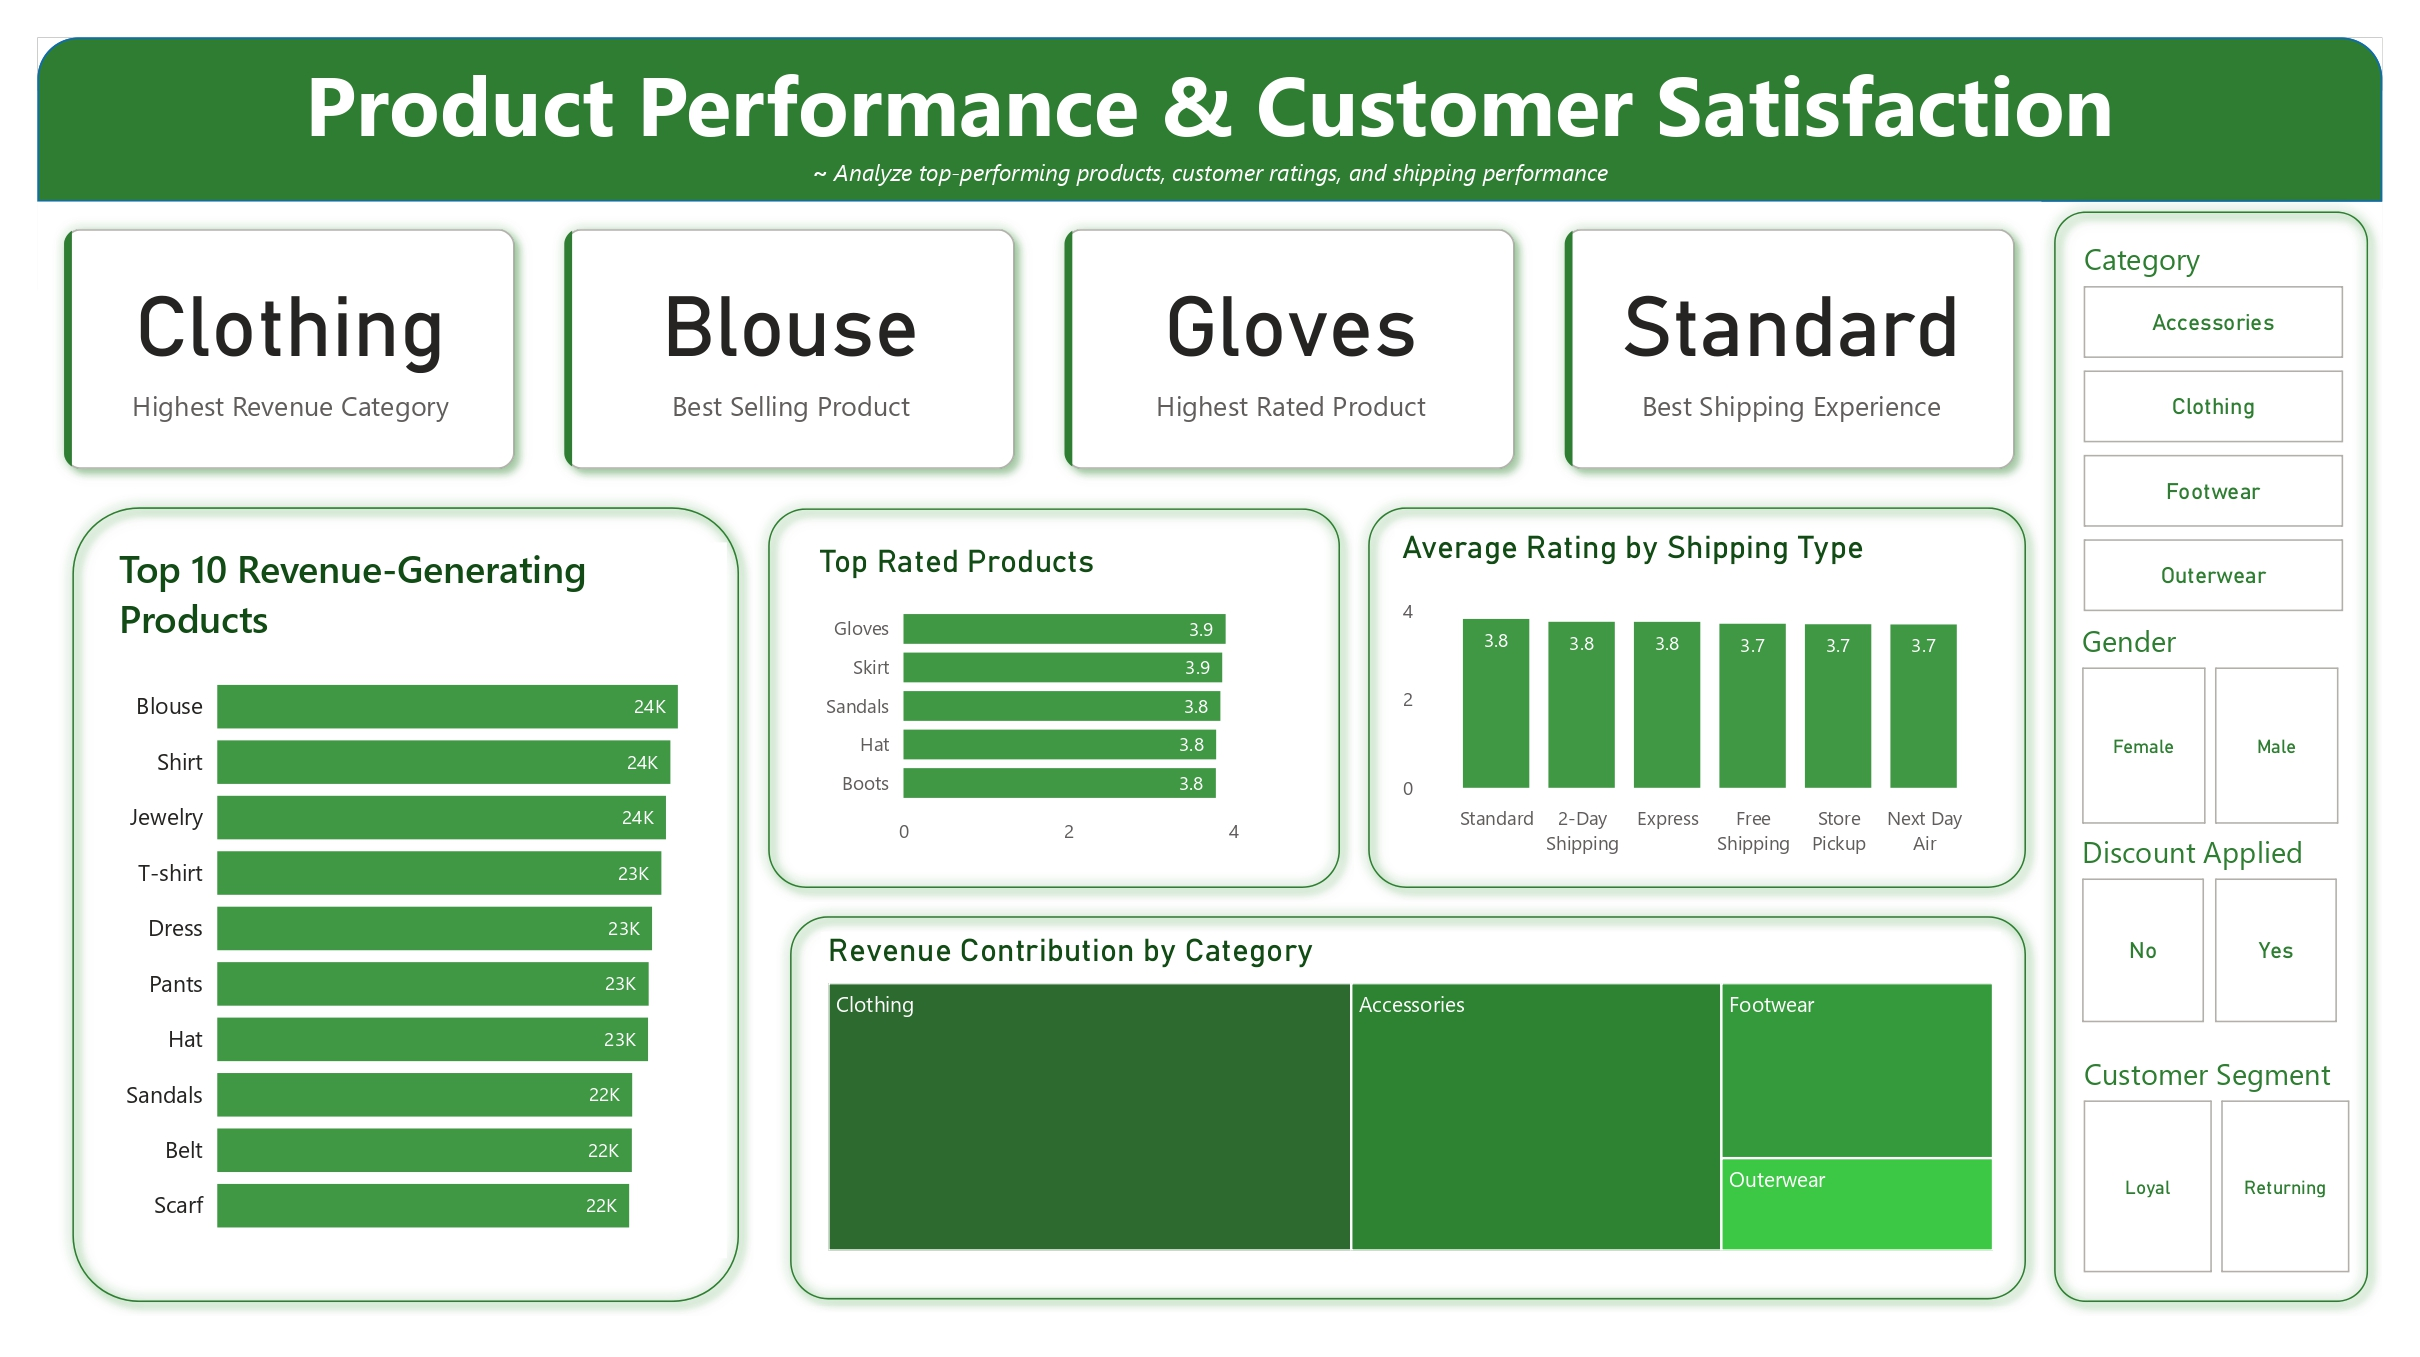

The page's visual inventory and layout, read from the dashboard file:
{"tool":"powerbi","page":{"name":"product_performance","canvas":[1500,820],"ordinal":2},"visuals":[{"type":"shape","box":[0,0,1500,104.6],"z":0},{"type":"textbox","box":[0,0,1500,104.6],"z":1000},{"type":"cardVisual","fields":{"Data":["customer.Highest Revenue Category","customer.Best Selling Product","customer.Highest Rated Product","customer.Best Shipping"]},"box":[0,104.6,1281.9,188.2],"z":2000},{"type":"shape","box":[457.5,292.5,384,260.2],"z":3000},{"type":"shape","box":[12.6,290.7,445,527.5],"z":4000},{"type":"shape","box":[471.9,552.6,809.2,263.8],"z":5000},{"type":"clusteredBarChart","title":"Top 10 Revenue-Generating Products","fields":{"Y":["Sum(customer.purchase_amount)"],"Category":["customer.item_purchased"]},"box":[46.7,323,394.7,457.5],"z":6000},{"type":"shape","box":[1281.1,102.3,218.9,715.9],"z":7000},{"type":"advancedSlicerVisual","fields":{"Values":["customer.discount_applied"]},"box":[1302.6,507.8,174,127.4],"z":8000},{"type":"advancedSlicerVisual","fields":{"Values":["customer.category"]},"box":[1304.4,129.2,175.8,244],"z":9000},{"type":"advancedSlicerVisual","fields":{"Values":["customer.Customer Segment"]},"box":[1304.4,649.5,179.4,145.3],"z":10000},{"type":"clusteredBarChart","title":"Top Rated Products","fields":{"Category":["customer.item_purchased"],"Y":["customer.Average Review Rating"]},"box":[495.2,323,360.6,202.8],"z":11000},{"type":"advancedSlicerVisual","fields":{"Values":["customer.gender"]},"box":[1302.6,373.2,174,134.6],"z":12000},{"type":"shape","box":[841.5,290.7,439.6,262],"z":13000},{"type":"columnChart","title":"Average Rating by Shipping Type","fields":{"Category":["customer.shipping_type"],"Y":["customer.Average Review Rating"]},"box":[868.4,314,387.6,217.1],"z":14000},{"type":"treemap","title":"Revenue Contribution by Category","fields":{"Group":["customer.category"],"Values":["Sum(customer.purchase_amount)"]},"box":[500.6,572.4,755.4,208.1],"z":15000}]}

Visuals, with their boxes on the page's 1500x820 design canvas (x1, y1, x2, y2). These are canvas units, not pixel positions in the 2420x1357 screenshot, which may show the page scaled, cropped or inside an application window:
shape: left=0, top=0, right=1500, bottom=105
textbox: left=0, top=0, right=1500, bottom=105
cardVisual - customer.Highest Revenue Category x customer.Best Selling Product: left=0, top=105, right=1282, bottom=293
shape: left=458, top=292, right=842, bottom=553
shape: left=13, top=291, right=458, bottom=818
shape: left=472, top=553, right=1281, bottom=816
"Top 10 Revenue-Generating Products" clusteredBarChart: left=47, top=323, right=441, bottom=780
shape: left=1281, top=102, right=1500, bottom=818
advancedSlicerVisual - customer.discount_applied: left=1303, top=508, right=1477, bottom=635
advancedSlicerVisual - customer.category: left=1304, top=129, right=1480, bottom=373
advancedSlicerVisual - customer.Customer Segment: left=1304, top=650, right=1484, bottom=795
"Top Rated Products" clusteredBarChart: left=495, top=323, right=856, bottom=526
advancedSlicerVisual - customer.gender: left=1303, top=373, right=1477, bottom=508
shape: left=842, top=291, right=1281, bottom=553
"Average Rating by Shipping Type" columnChart: left=868, top=314, right=1256, bottom=531
"Revenue Contribution by Category" treemap: left=501, top=572, right=1256, bottom=780
